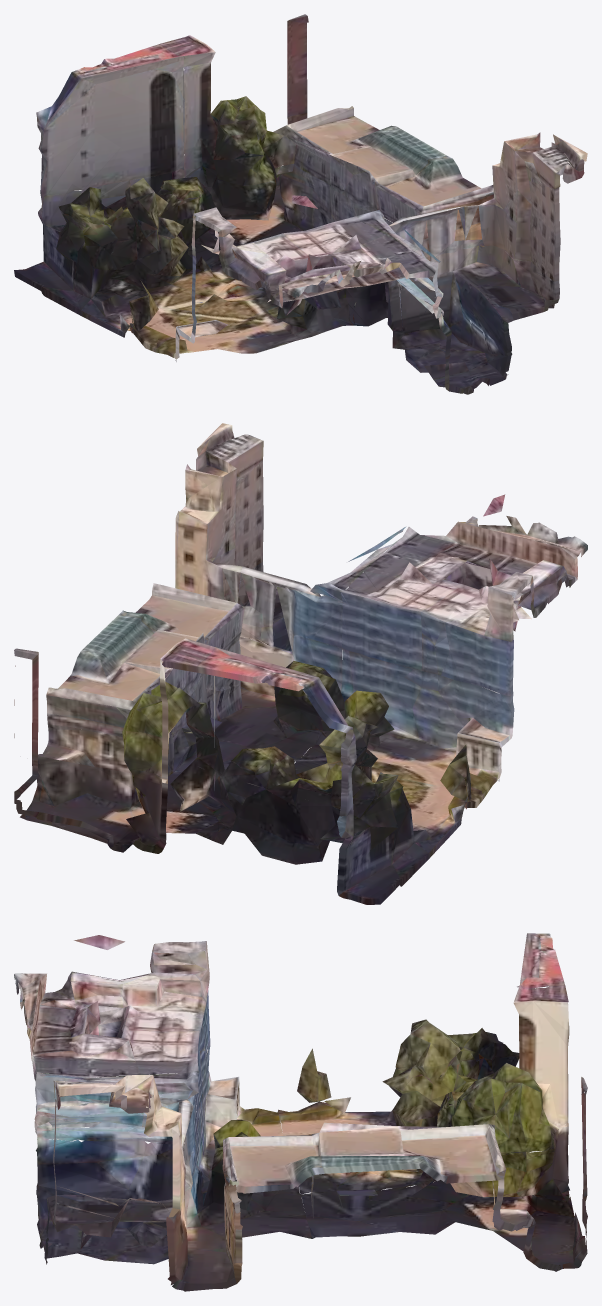
3 renders of one model, top to bottom at view 1: azimuth 30°, elevation 25°; view 2: azimuth 150°, elevation 25°; view 3: azimuth 270°, elevation 25°, orthographic. The views are drawn at different scales.
Parts seen in each view (by area): view 1: Mesh_0; view 2: Mesh_0; view 3: Mesh_0.
Part boxes in pixels (x1,y1,x2,y2): Mesh_0: [14, 14, 587, 394]; Mesh_0: [14, 423, 587, 904]; Mesh_0: [14, 933, 587, 1291].
Size of the model in its own units: 66.57 by 37.64 by 82.56.
1 material, 1 textured.
